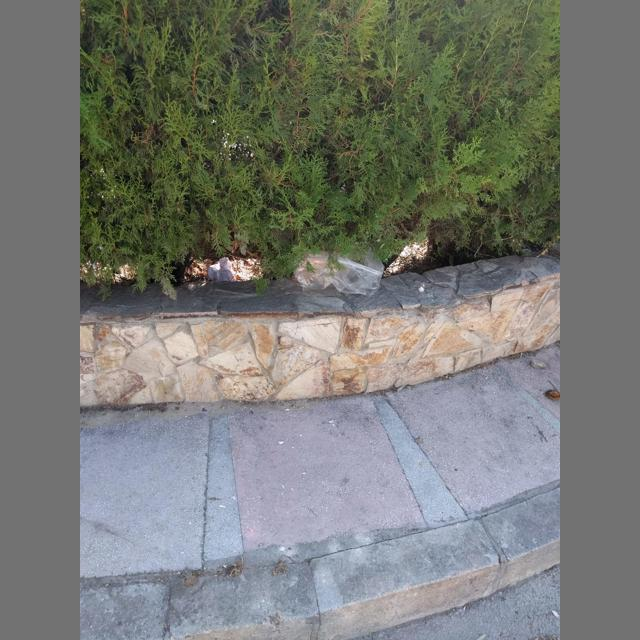litter: (276, 246, 384, 296), (208, 258, 236, 281)
